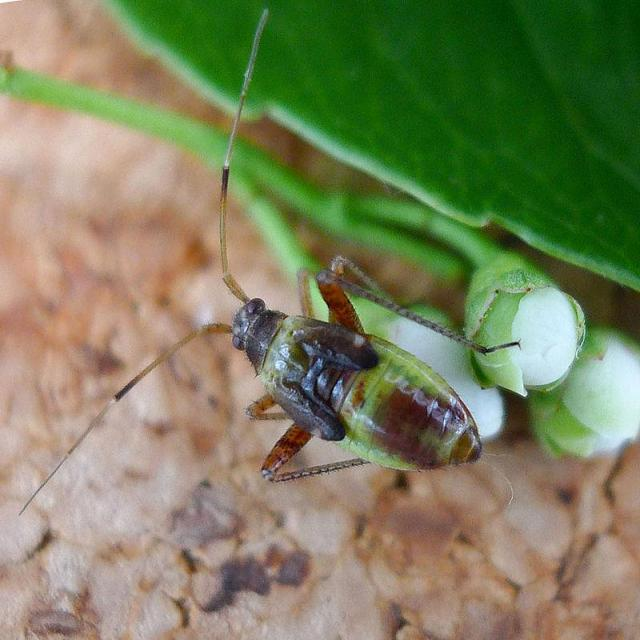Miridae-Adult-: (77, 9, 533, 518)
